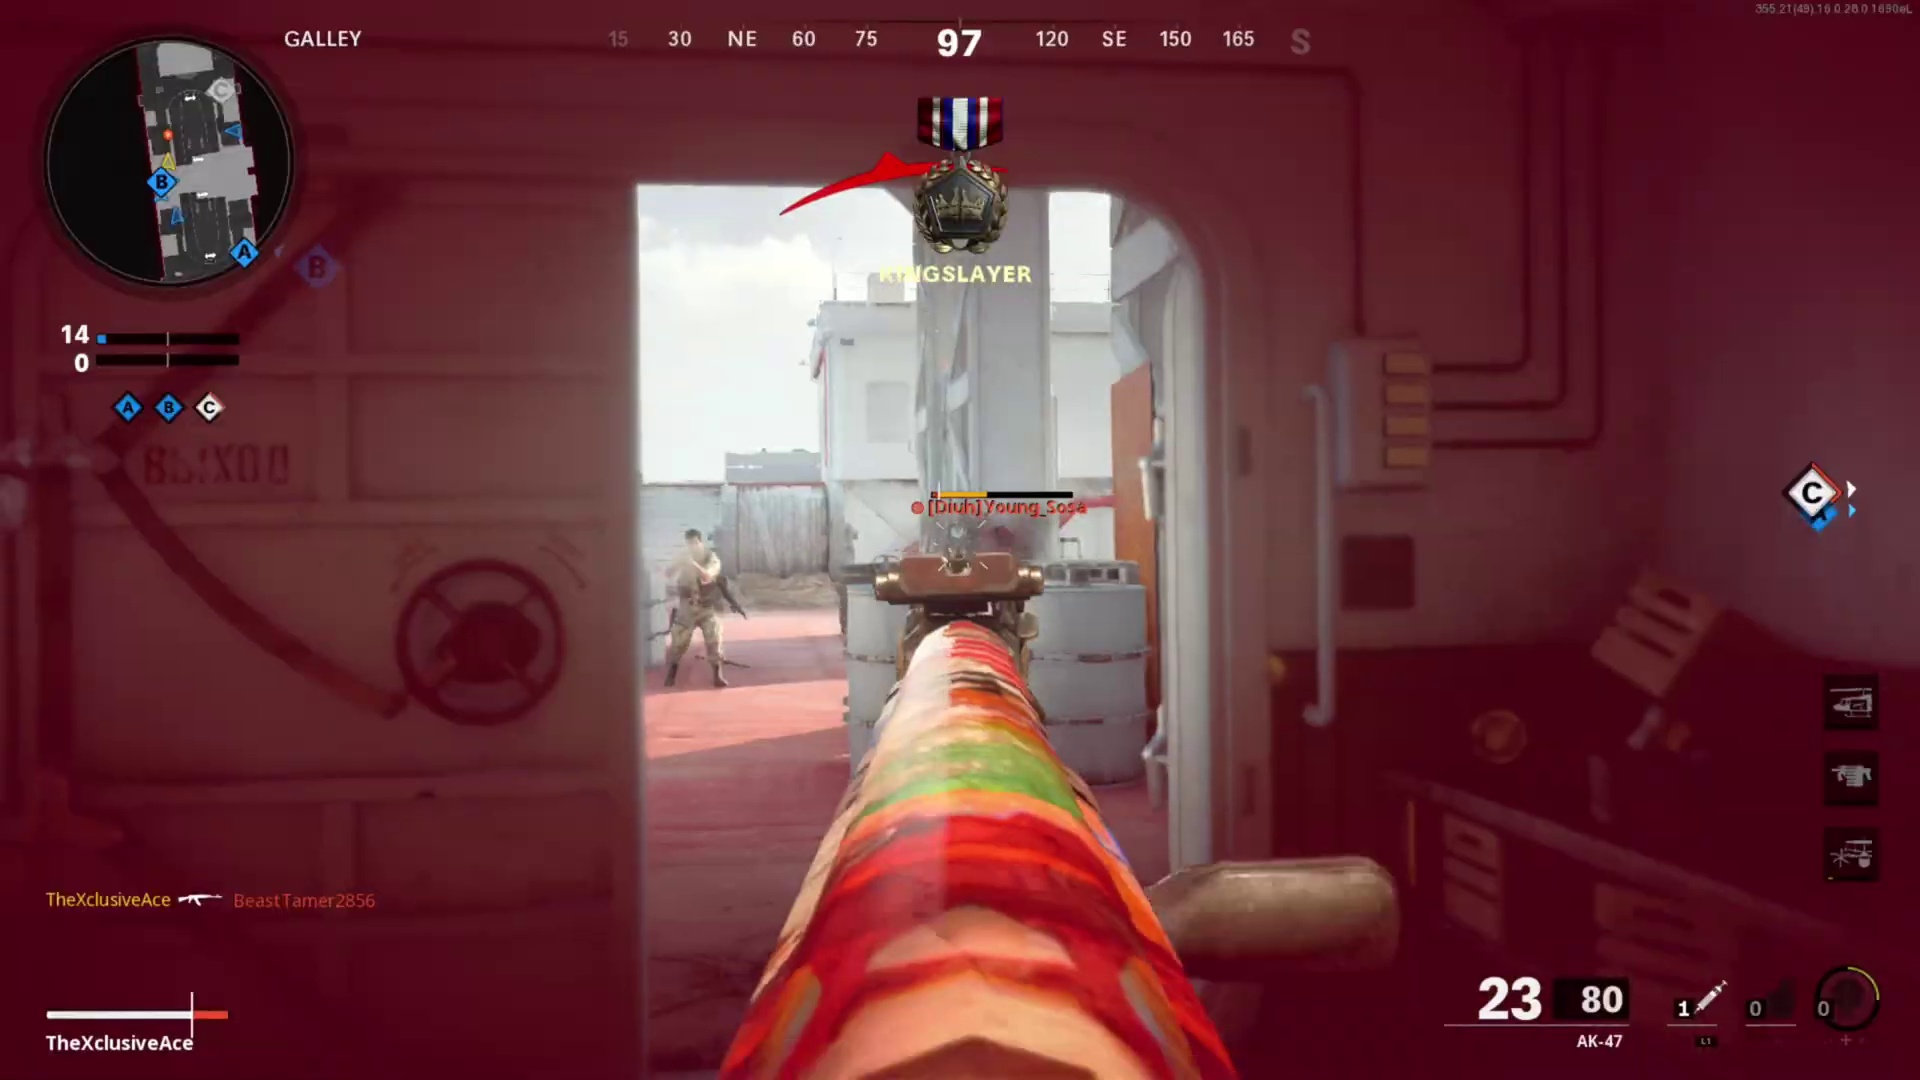head: (680, 524, 710, 566)
person: (653, 527, 744, 685)
